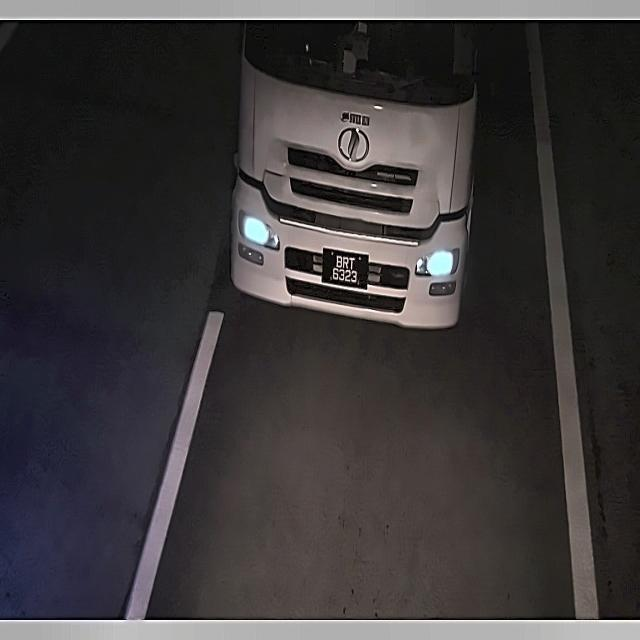car: (318, 242, 374, 292)
